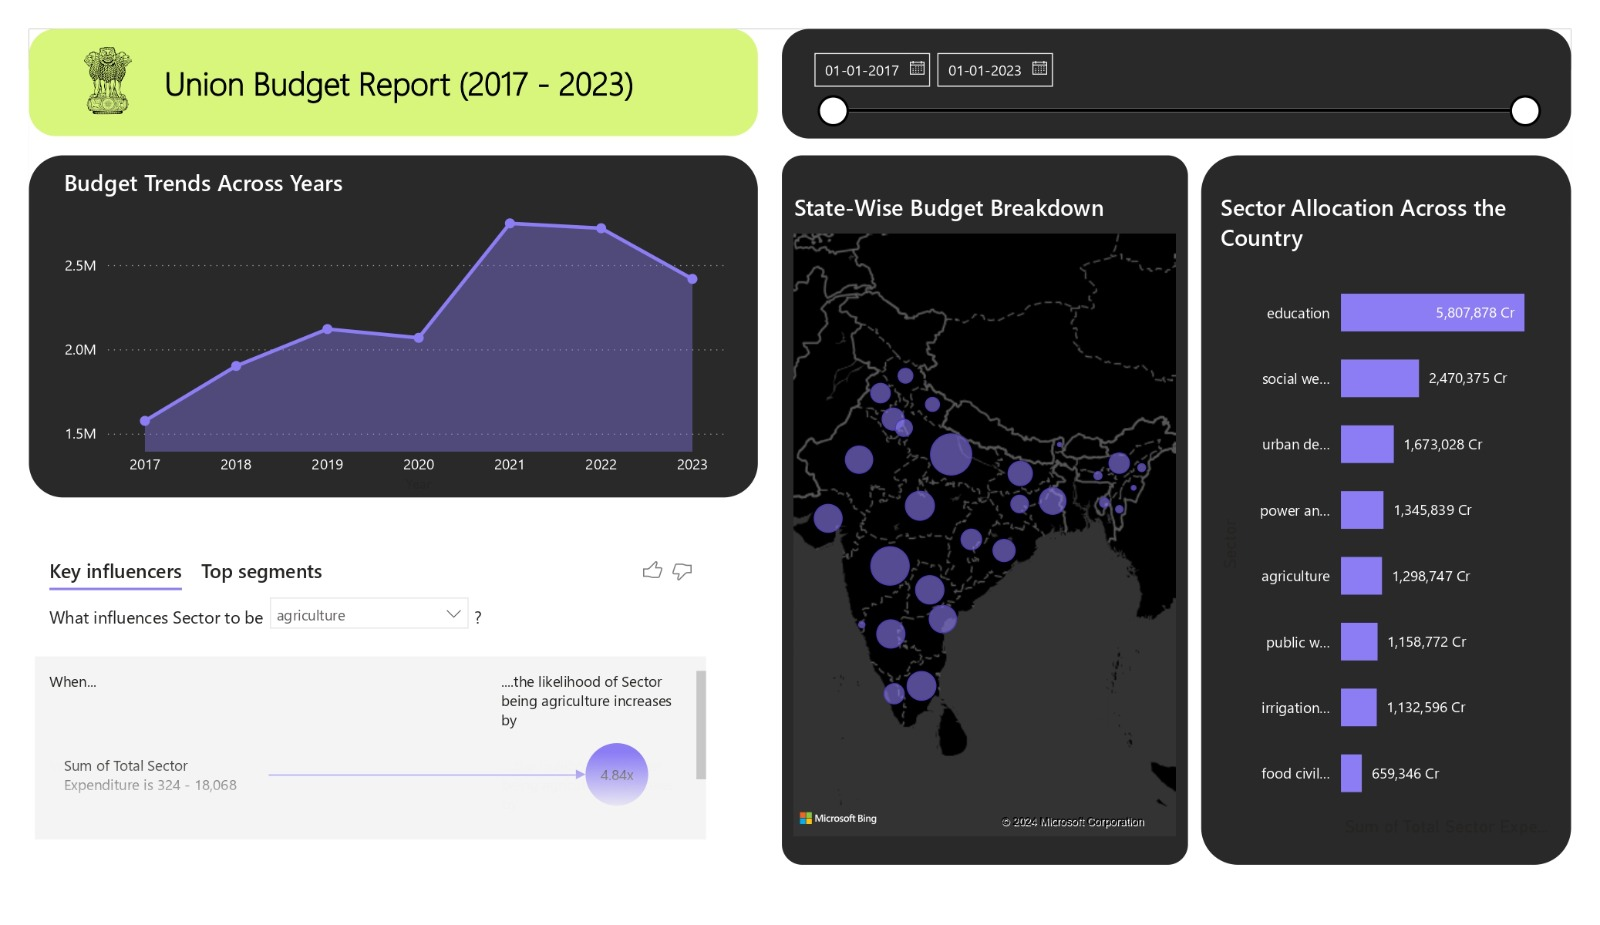

The page's visual inventory and layout, read from the dashboard file:
{"tool":"powerbi","page":{"name":"Page 1","canvas":[1280,720],"ordinal":0},"visuals":[{"type":"shape","box":[0,105.1,604.8,283.7],"z":0},{"type":"shape","box":[973.4,105.1,306.7,589],"z":1000},{"type":"shape","box":[625,105.1,337,589],"z":2000},{"type":"map","title":"State-Wise Budget Breakdown","fields":{"Category":["Data.State_UT"],"Size":["Sum(Data.Total Sector Expenditure)"]},"box":[625,125.3,337,550.1],"z":3000},{"type":"shape","box":[0,0,604.8,89.3],"z":4000},{"type":"shape","box":[625,0,655.2,90.7],"z":5000},{"type":"slicer","fields":{"Values":["Data.Year"]},"box":[639.4,10.1,623.5,73.4],"z":6000},{"type":"shape","box":[0,410.4,604.8,283.7],"z":7000},{"type":"barChart","title":"Sector Allocation Across the Country","fields":{"Y":["Sum(Data.Total Sector Expenditure)"],"Category":["Data.Sector"]},"box":[979.2,125.3,289.4,550.1],"z":8000},{"type":"keyDriversVisual","fields":{"Target":["Data.Sector"],"ExplainBy":["Sum(Data.Total Sector Expenditure)"]},"box":[0,426.2,567.4,252],"z":9000},{"type":"lineChart","title":"Budget Trends Across Years ","fields":{"Category":["Data.Year.Variation.Date Hierarchy.Year"],"Y":["Sum(Data.Total Sector Expenditure)"]},"box":[18.7,105.1,567.4,283.7],"z":10000},{"type":"image","box":[28.8,10.1,72,72],"z":10001}]}

Visuals, with their boxes in screenshot pixels (x1, y1, x2, y2), scaled from the page's 1280x720 canvas onto the 1600x925 screenshot:
shape: <box>0,135,756,500</box>
shape: <box>1217,135,1599,892</box>
shape: <box>781,135,1202,892</box>
"State-Wise Budget Breakdown" map: <box>781,161,1202,868</box>
shape: <box>0,0,756,115</box>
shape: <box>781,0,1599,117</box>
slicer - Data.Year: <box>799,13,1579,107</box>
shape: <box>0,527,756,892</box>
"Sector Allocation Across the Country" barChart: <box>1224,161,1586,868</box>
keyDriversVisual - Data.Sector x Sum(Data.Total Sector Expenditure): <box>0,548,709,871</box>
"Budget Trends Across Years " lineChart: <box>23,135,733,500</box>
image: <box>36,13,126,105</box>
